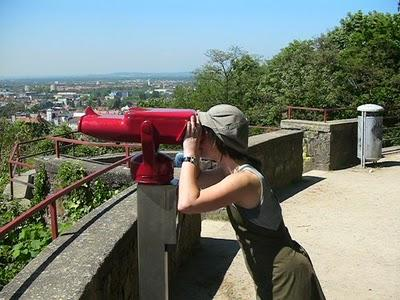person: (178, 104, 329, 300)
